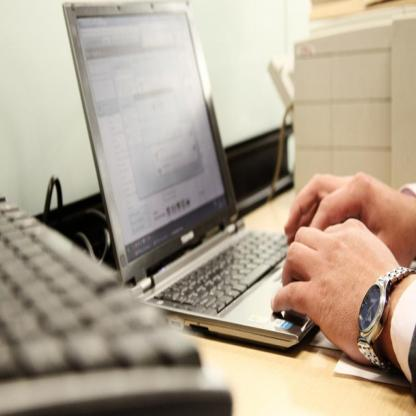board: (61, 0, 316, 350)
